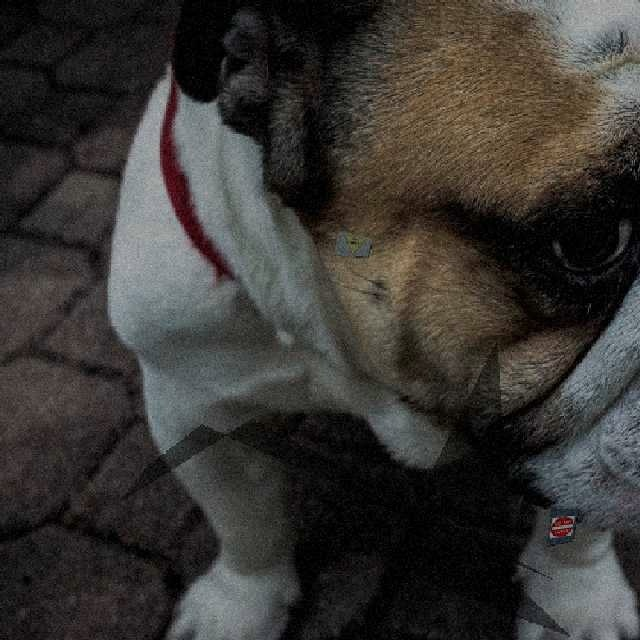DO_NOT_ENTER: (548, 514, 574, 539)
NOT_YIELD: (338, 233, 367, 257)
